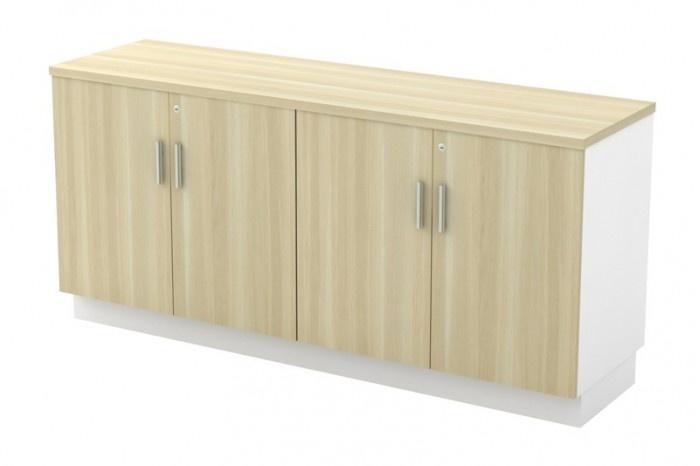cabinet_door: (433, 145, 568, 382), (298, 129, 427, 351), (178, 111, 297, 325), (64, 96, 170, 301)
handle: (434, 181, 450, 234), (413, 180, 428, 231), (174, 140, 189, 188), (152, 138, 166, 187)
